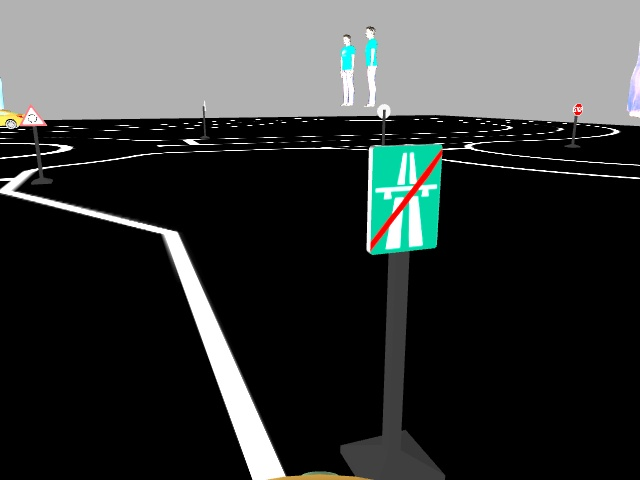HighwayExit: (369, 143, 436, 252)
